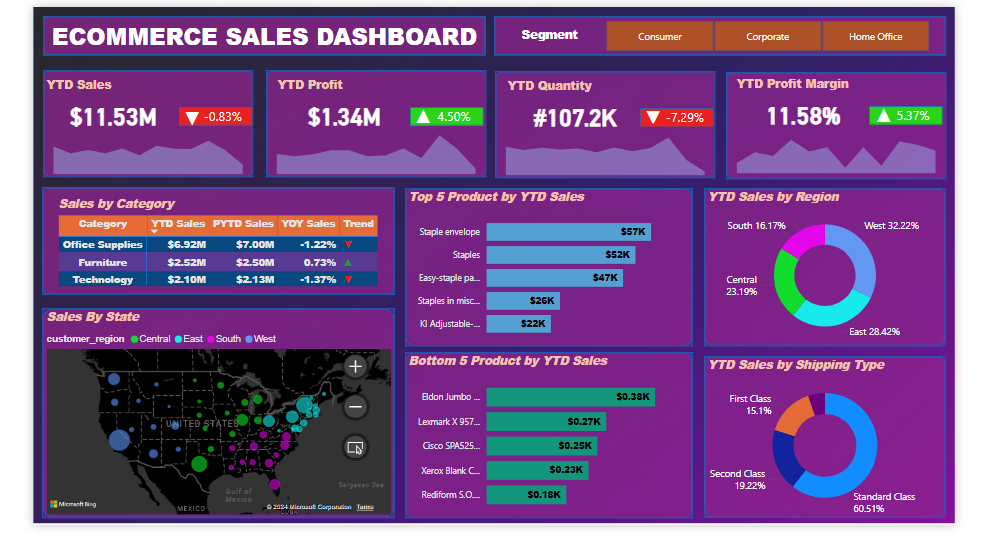

This screenshot's page, from the dashboard's own definition file:
{"tool":"powerbi","page":{"name":"Page 1","canvas":[1280,720],"ordinal":0},"visuals":[{"type":"shape","box":[14.2,12.8,615.1,55.3],"z":0},{"type":"textbox","box":[14.2,12.8,615.1,55.3],"z":1000},{"type":"shape","box":[14.2,87.9,292,148.8],"z":2000},{"type":"card","fields":{"Values":["ecommerce_data.YTD Sales"]},"box":[31.2,123.3,161.6,53.9],"z":3000},{"type":"shape","box":[202.7,138.9,102,25.5],"z":4000},{"type":"areaChart","fields":{"Category":["Calendar.Month"],"Y":["Sum(ecommerce_data.sales_per_order)"]},"box":[14.2,164.4,292,73.7],"z":5000},{"type":"card","fields":{"Values":["ecommerce_data.YOY Sales"]},"box":[223.9,138.9,80.8,25.5],"z":6000},{"type":"card","fields":{"Values":["ecommerce_data.Sales icon"]},"box":[202.7,117.6,36.9,72.3],"z":7000},{"type":"textbox","box":[14.2,90.7,109.1,32.6],"z":8000},{"type":"shape","box":[323.1,87.9,306.1,148.8],"z":9000},{"type":"card","fields":{"Values":["ecommerce_data.YTD Profit"]},"box":[351.6,123.4,161.6,53.9],"z":10000},{"type":"shape","box":[523.1,139,102,25.5],"z":11000},{"type":"areaChart","fields":{"Category":["Calendar.Month"],"Y":["Sum(ecommerce_data.profit_per_order)"]},"box":[323.1,163,306.1,75.1],"z":12000},{"type":"card","fields":{"Values":["ecommerce_data.YOY Profit"]},"box":[544.3,139,80.8,25.5],"z":13000},{"type":"card","fields":{"Values":["ecommerce_data.Profit icon"]},"box":[523,133.2,36.9,36.9],"z":14000},{"type":"textbox","box":[334.6,90.8,109.1,32.6],"z":15000},{"type":"shape","box":[642,89.3,306.1,148.8],"z":16000},{"type":"card","fields":{"Values":["ecommerce_data.YTD Concatenated Qty"]},"box":[672,124.9,161.6,53.9],"z":17000},{"type":"shape","box":[843.5,140.5,102,25.5],"z":18000},{"type":"areaChart","fields":{"Category":["Calendar.Month"],"Y":["Sum(ecommerce_data.order_quantity)"]},"box":[642,165.8,306.1,73.7],"z":19000},{"type":"card","fields":{"Values":["ecommerce_data.YOY Qty"]},"box":[864.7,140.5,80.8,25.5],"z":20000},{"type":"card","fields":{"Values":["ecommerce_data.Qty icon"]},"box":[843.3,138.9,36.9,28.3],"z":21000},{"type":"textbox","box":[654.8,92.1,154.5,32.6],"z":22000},{"type":"shape","box":[962.4,90.7,306.1,148.8],"z":23000},{"type":"card","fields":{"Values":["ecommerce_data.YTD Profit Margin"]},"box":[989.5,122.1,161.6,53.9],"z":24000},{"type":"shape","box":[1161,137.7,102,25.5],"z":25000},{"type":"areaChart","fields":{"Category":["Calendar.Month"],"Y":["ecommerce_data.Profit Margin"]},"box":[962.4,163,306.1,73.7],"z":26000},{"type":"card","fields":{"Values":["ecommerce_data.YOY Profit Margin"]},"box":[1182.3,137.7,80.8,25.5],"z":27000},{"type":"card","fields":{"Values":["ecommerce_data.Profit Margin icon"]},"box":[1162.2,134.6,38.3,32.6],"z":28000},{"type":"textbox","box":[972.3,89.3,178.6,32.6],"z":29000},{"type":"shape","box":[12.8,249.4,490.4,150.2],"z":30000},{"type":"pivotTable","title":"Sales by Category","fields":{"Rows":["ecommerce_data.category_name"],"Values":["ecommerce_data.YTD Sales","ecommerce_data.PYTD Sales","ecommerce_data.YOY Sales","ecommerce_data.Trend"]},"box":[31.2,260.8,456.4,138.9],"z":31000},{"type":"shape","box":[12.8,418.1,490.4,292],"z":32000},{"type":"map","title":"Sales By State","fields":{"Y":["us_state_long_lat_codes.latitude"],"X":["us_state_long_lat_codes.longitude"],"Size":["ecommerce_data.YTD Sales"],"Series":["ecommerce_data.customer_region"]},"box":[14.2,418.1,489,292],"z":33000},{"type":"shape","box":[517.3,250.9,400,220],"z":34000},{"type":"shape","box":[517.3,479.1,399.7,231],"z":35000},{"type":"shape","box":[932.6,250.9,335.9,219.7],"z":36000},{"type":"shape","box":[932.6,484.7,335.9,225.4],"z":37000},{"type":"barChart","title":"Top 5 Product by YTD Sales","fields":{"Category":["ecommerce_data.product_name"],"Y":["ecommerce_data.YTD Sales"]},"box":[517.3,250.9,399.7,219.7],"z":38000},{"type":"barChart","title":"Bottom 5 Product by YTD Sales","fields":{"Category":["ecommerce_data.product_name"],"Y":["ecommerce_data.YTD Sales"]},"box":[517.3,479.1,399.7,231],"z":39000},{"type":"donutChart","title":"YTD Sales by Region","fields":{"Category":["ecommerce_data.customer_region"],"Y":["ecommerce_data.YTD Sales"]},"box":[932.6,250.9,335.9,219.7],"z":40000},{"type":"donutChart","title":"YTD Sales by Shipping Type","fields":{"Y":["ecommerce_data.YTD Sales"],"Category":["ecommerce_data.shipping_type"]},"box":[932.6,484.7,335.9,225.4],"z":41000},{"type":"shape","box":[640.6,12.8,627.9,55.3],"z":42000},{"type":"slicer","fields":{"Values":["ecommerce_data.customer_segment"]},"box":[771,12.8,497.5,55.3],"z":43000},{"type":"textbox","box":[640.6,21.3,154.5,38.3],"z":44000}]}

Visuals, with their boxes in screenshot pixels (x1, y1, x2, y2):
shape: <region>29, 4, 482, 45</region>
textbox: <region>29, 4, 482, 45</region>
shape: <region>29, 60, 244, 170</region>
card - ecommerce_data.YTD Sales: <region>41, 86, 160, 126</region>
shape: <region>168, 97, 243, 116</region>
areaChart - Calendar.Month x Sum(ecommerce_data.sales_per_order): <region>29, 116, 244, 171</region>
card - ecommerce_data.YOY Sales: <region>183, 97, 243, 116</region>
card - ecommerce_data.Sales icon: <region>168, 82, 195, 135</region>
textbox: <region>29, 62, 109, 86</region>
shape: <region>257, 60, 482, 170</region>
card - ecommerce_data.YTD Profit: <region>278, 86, 397, 126</region>
shape: <region>404, 97, 479, 116</region>
areaChart - Calendar.Month x Sum(ecommerce_data.profit_per_order): <region>257, 115, 482, 171</region>
card - ecommerce_data.YOY Profit: <region>420, 97, 479, 116</region>
card - ecommerce_data.Profit icon: <region>404, 93, 431, 120</region>
textbox: <region>265, 62, 346, 86</region>
shape: <region>492, 61, 718, 171</region>
card - ecommerce_data.YTD Concatenated Qty: <region>514, 87, 633, 127</region>
shape: <region>641, 99, 716, 117</region>
areaChart - Calendar.Month x Sum(ecommerce_data.order_quantity): <region>492, 117, 718, 172</region>
card - ecommerce_data.YOY Qty: <region>656, 99, 716, 117</region>
card - ecommerce_data.Qty icon: <region>640, 97, 668, 118</region>
textbox: <region>501, 63, 615, 87</region>
shape: <region>728, 62, 954, 172</region>
card - ecommerce_data.YTD Profit Margin: <region>748, 85, 868, 125</region>
shape: <region>875, 96, 950, 115</region>
areaChart - Calendar.Month x ecommerce_data.Profit Margin: <region>728, 115, 954, 170</region>
card - ecommerce_data.YOY Profit Margin: <region>891, 96, 950, 115</region>
card - ecommerce_data.Profit Margin icon: <region>876, 94, 904, 118</region>
textbox: <region>736, 61, 867, 85</region>
shape: <region>27, 179, 389, 290</region>
"Sales by Category" pivotTable: <region>41, 187, 378, 290</region>
shape: <region>27, 303, 389, 519</region>
"Sales By State" map: <region>29, 303, 389, 519</region>
shape: <region>400, 180, 695, 342</region>
shape: <region>400, 348, 695, 519</region>
shape: <region>706, 180, 954, 342</region>
shape: <region>706, 353, 954, 519</region>
"Top 5 Product by YTD Sales" barChart: <region>400, 180, 695, 342</region>
"Bottom 5 Product by YTD Sales" barChart: <region>400, 348, 695, 519</region>
"YTD Sales by Region" donutChart: <region>706, 180, 954, 342</region>
"YTD Sales by Shipping Type" donutChart: <region>706, 353, 954, 519</region>
shape: <region>491, 4, 954, 45</region>
slicer - ecommerce_data.customer_segment: <region>587, 4, 954, 45</region>
textbox: <region>491, 11, 605, 39</region>
